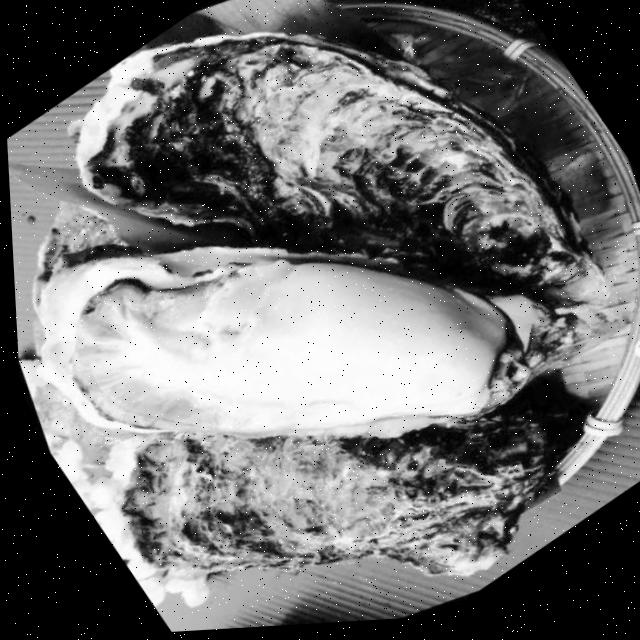Oyster-Indeterminate: (76, 27, 607, 307)
Oyster-Open: (38, 247, 506, 436), (123, 400, 550, 575)
